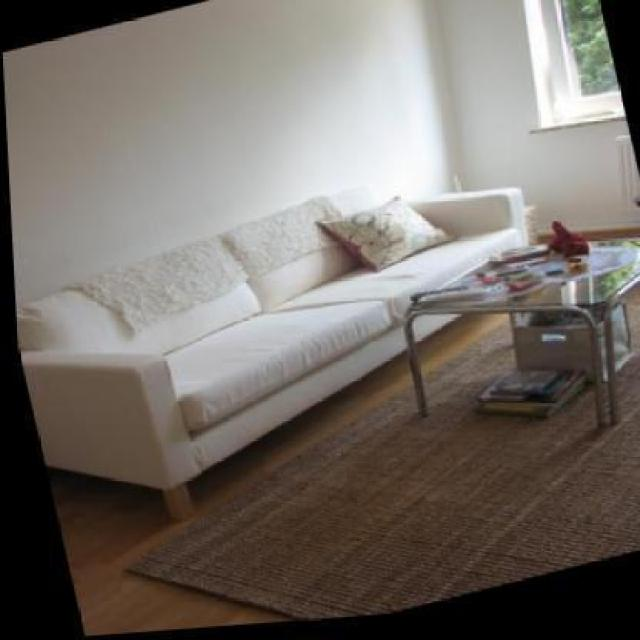tables: (402, 242, 638, 428)
